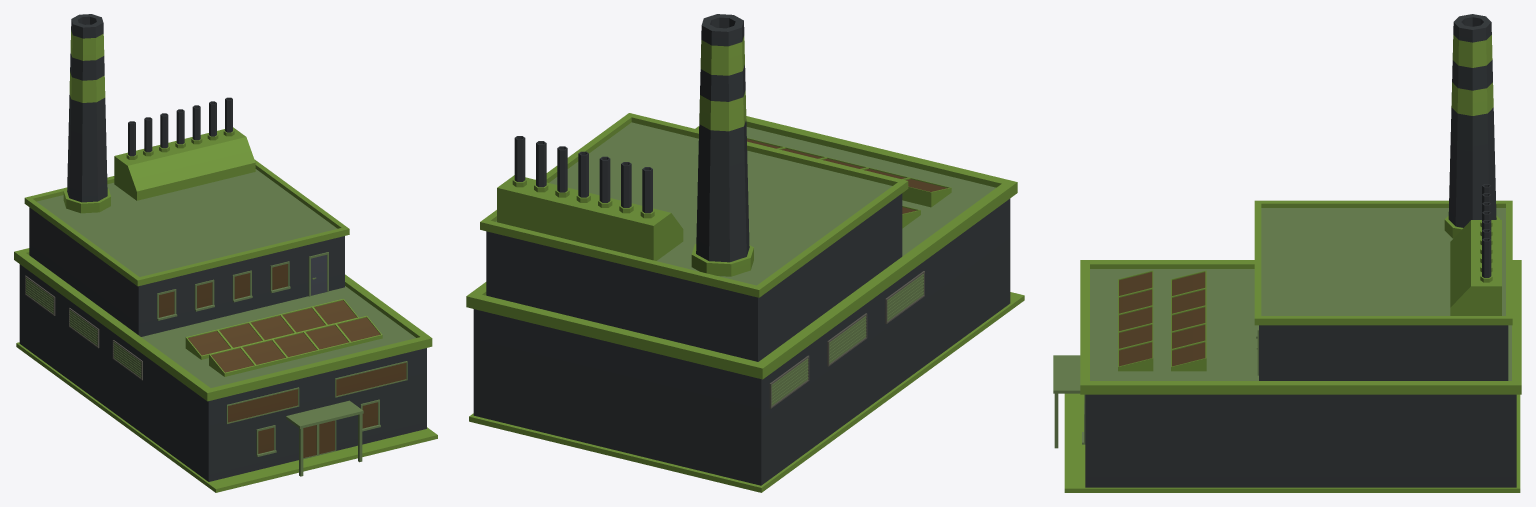
The model's file is Factory_05.fbx.
3 views of the same model, side by side, from view 1: azimuth 30°, elevation 25°; view 2: azimuth 150°, elevation 25°; view 3: azimuth 270°, elevation 25° (orthographic). The views are drawn at different scales.
Visible parts, largest first — view 1: Factory_05; view 2: Factory_05; view 3: Factory_05.
Part boxes in pixels (box(x1,y1,x2,y2)): Factory_05: box(14, 14, 437, 492); Factory_05: box(466, 14, 1024, 492); Factory_05: box(1053, 14, 1521, 492).
Size of the model in its own units: 12.37 by 17.29 by 19.54.
